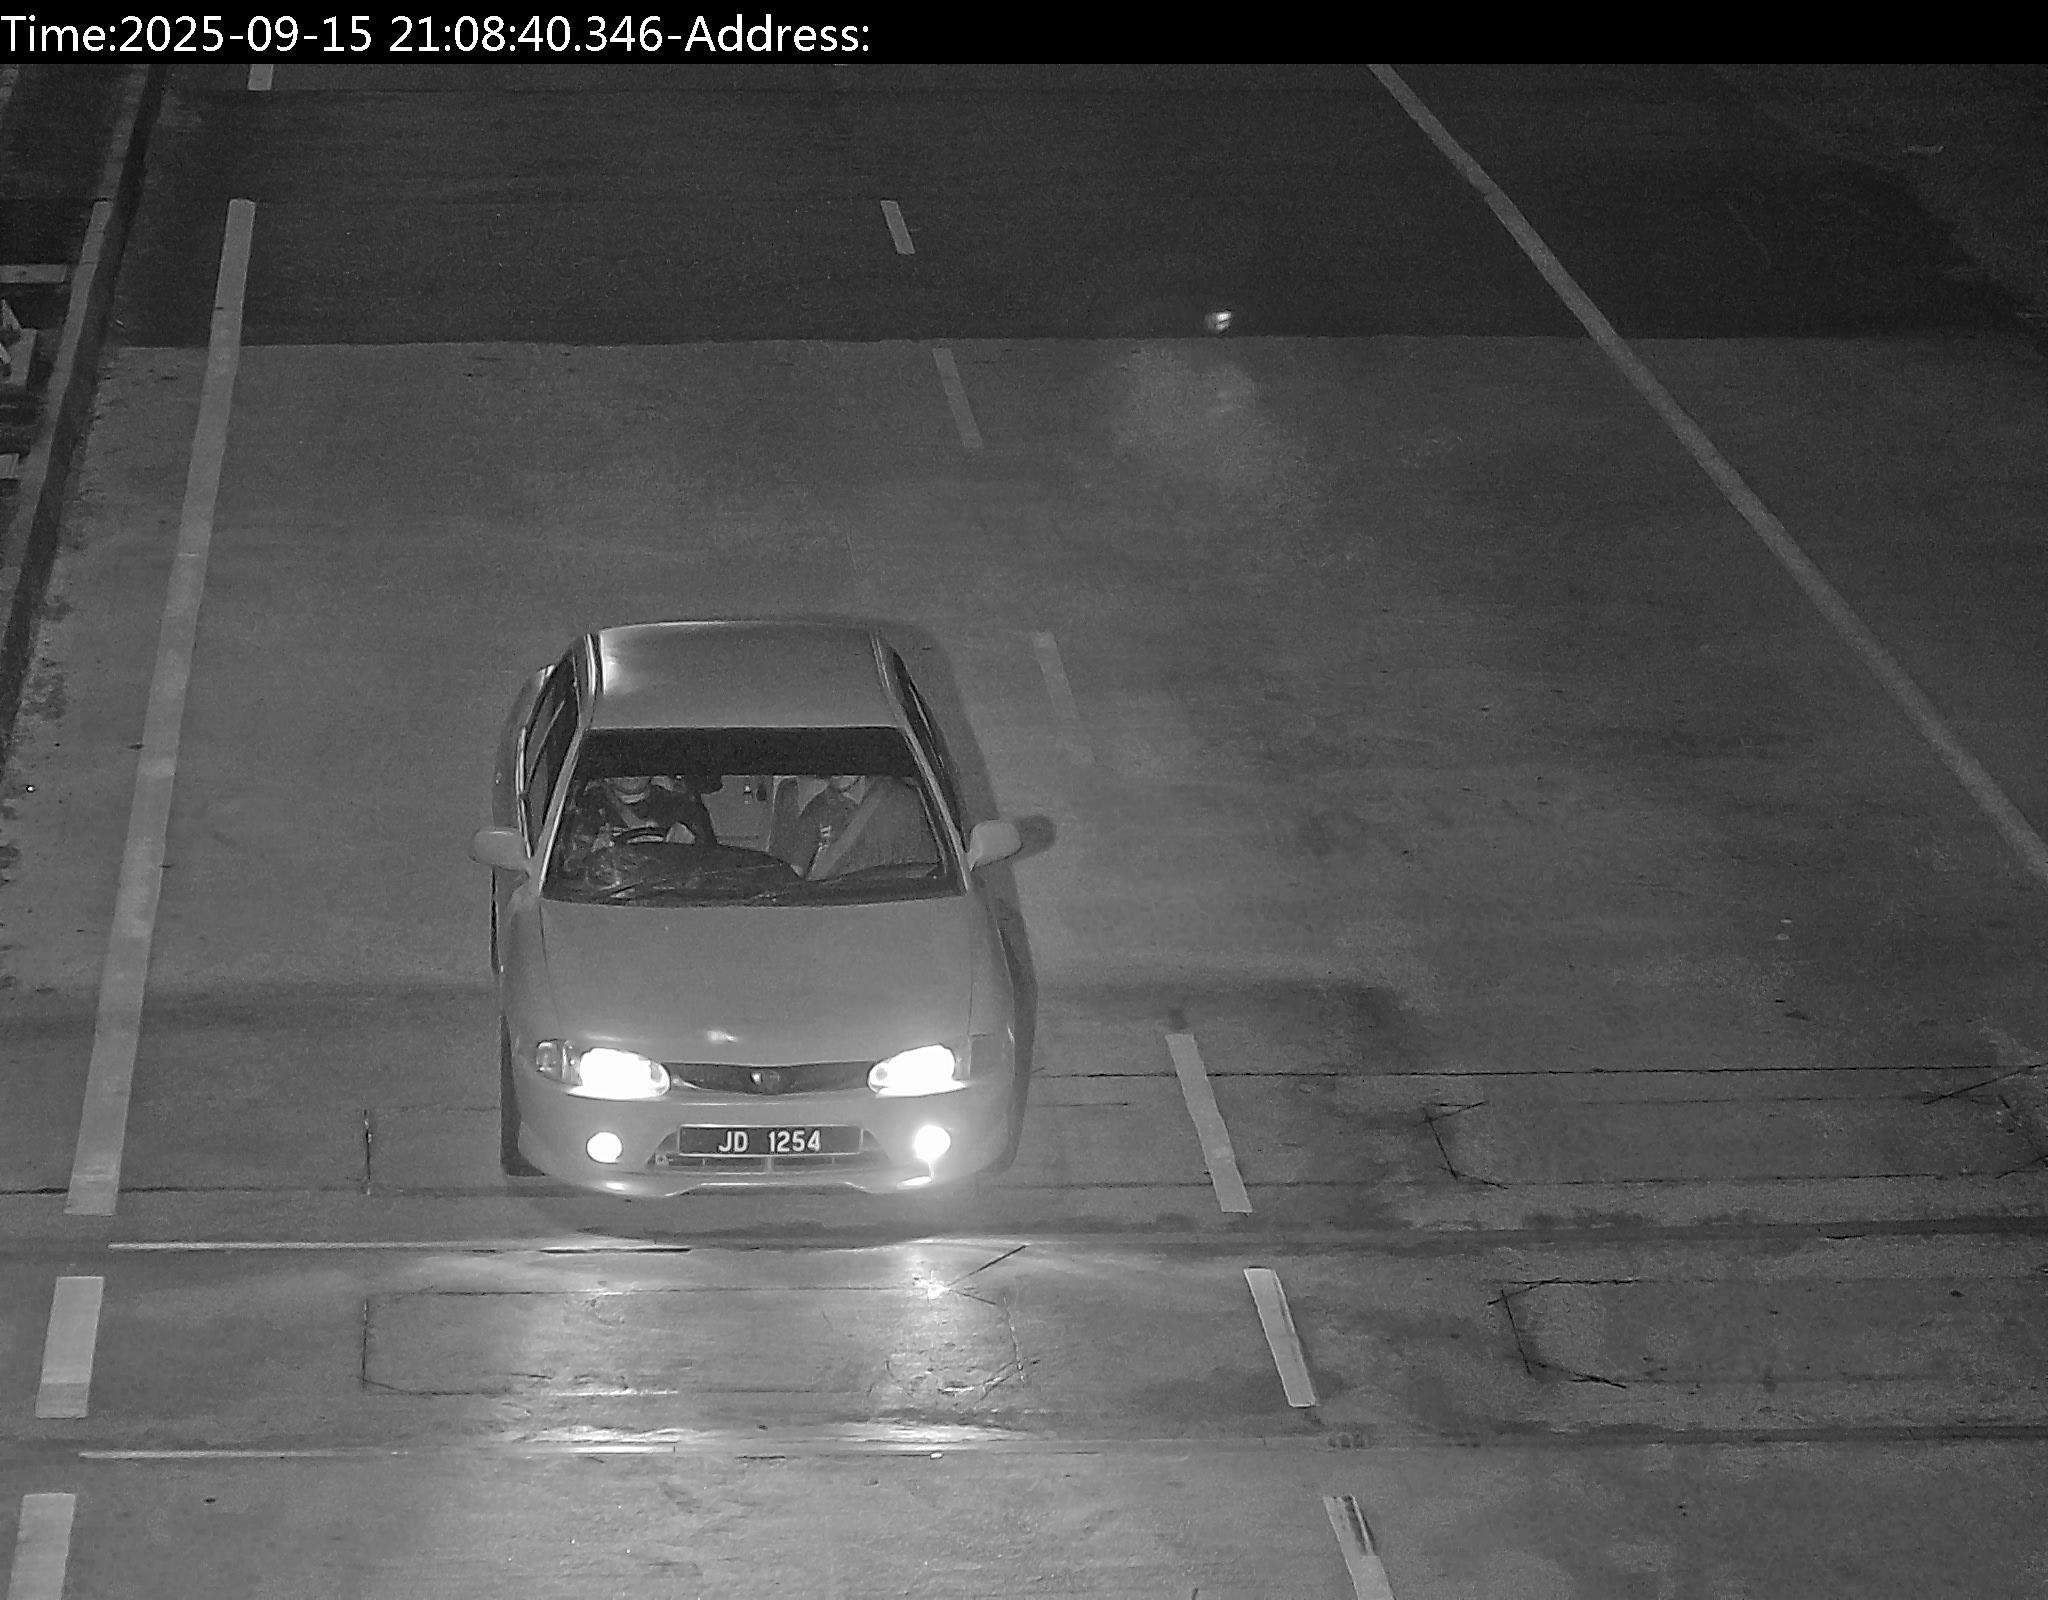non broken: (688, 1123, 851, 1156)
